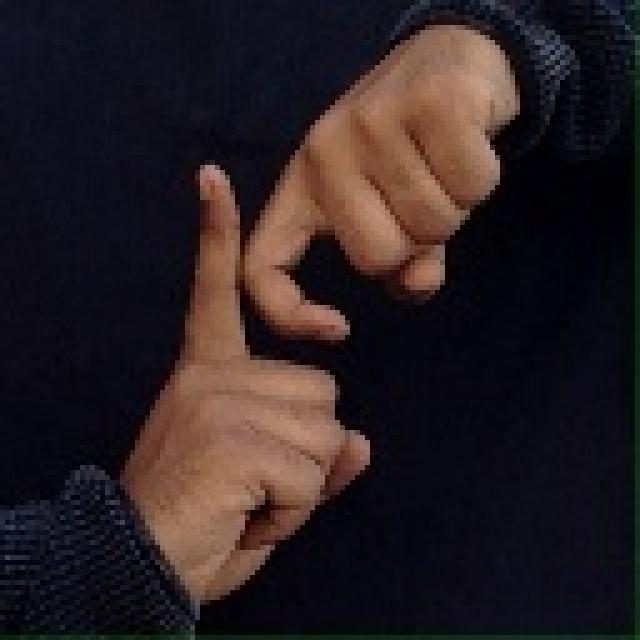Alphabet-K: (124, 20, 519, 621)
